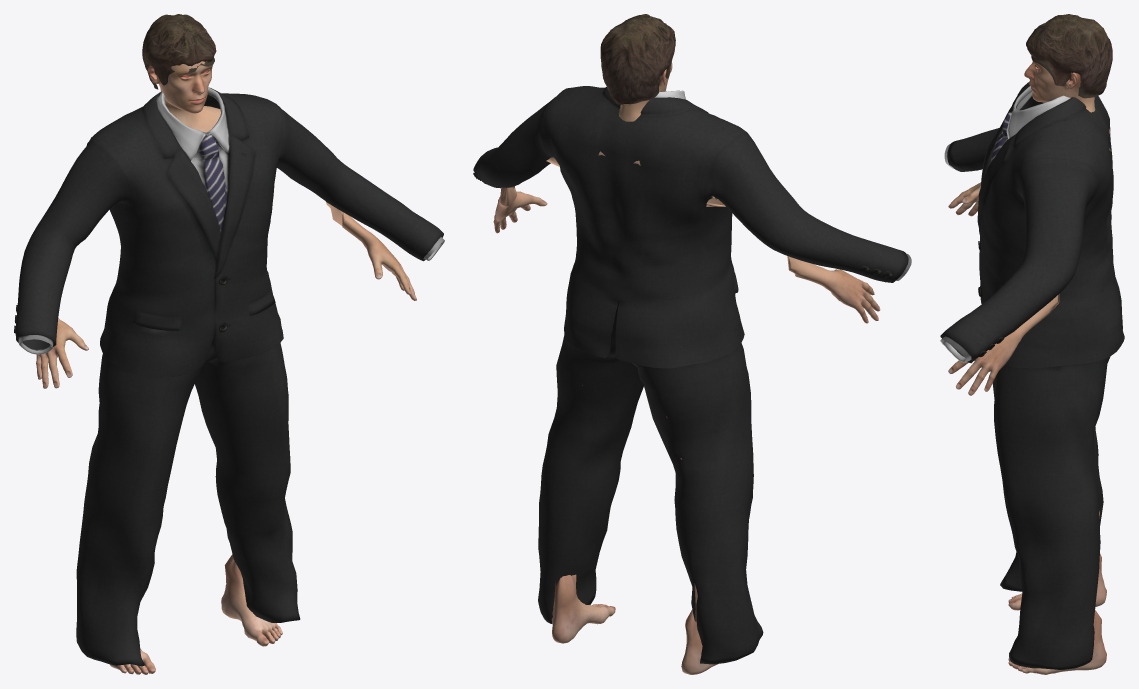
The model's file is stasi.glb.
3 views of the same model, side by side, from view 1: azimuth 30°, elevation 25°; view 2: azimuth 150°, elevation 25°; view 3: azimuth 270°, elevation 25° (orthographic).
Parts seen in each view (by area): view 1: clothes_male_elegantsuit01, Human, hair_short02; view 2: clothes_male_elegantsuit01, Human, hair_short02; view 3: clothes_male_elegantsuit01, Human, hair_short02.
Part boxes in pixels (x1=…): clothes_male_elegantsuit01: x1=14, y1=87, x2=444, y2=666; Human: x1=36, y1=61, x2=416, y2=674; hair_short02: x1=142, y1=14, x2=216, y2=89; clothes_male_elegantsuit01: x1=473, y1=86, x2=911, y2=664; Human: x1=493, y1=60, x2=880, y2=674; hair_short02: x1=600, y1=14, x2=675, y2=104; clothes_male_elegantsuit01: x1=940, y1=82, x2=1124, y2=669; Human: x1=948, y1=61, x2=1110, y2=674; hair_short02: x1=1026, y1=14, x2=1112, y2=98.
Bounding box in the file's own units: 1.3 × 1.81 × 0.4898.
Materials: 4 (4 with a texture image).
